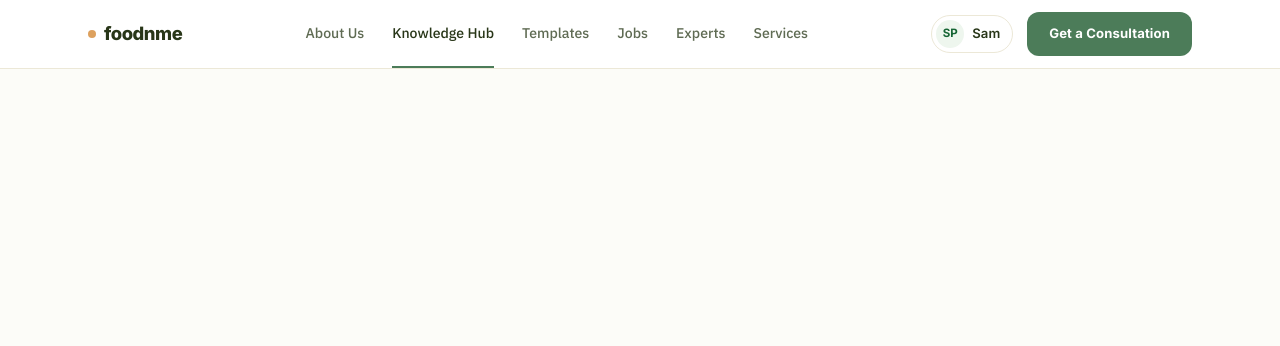
Scenario: Navbar auth region (story-homepage-09) › signed in: Escape closes the dropdown (AC#5)
The image size is (1280, 346).
Click the button with aria-label "Account menu": x=972, y=34 [931,15,1013,53]
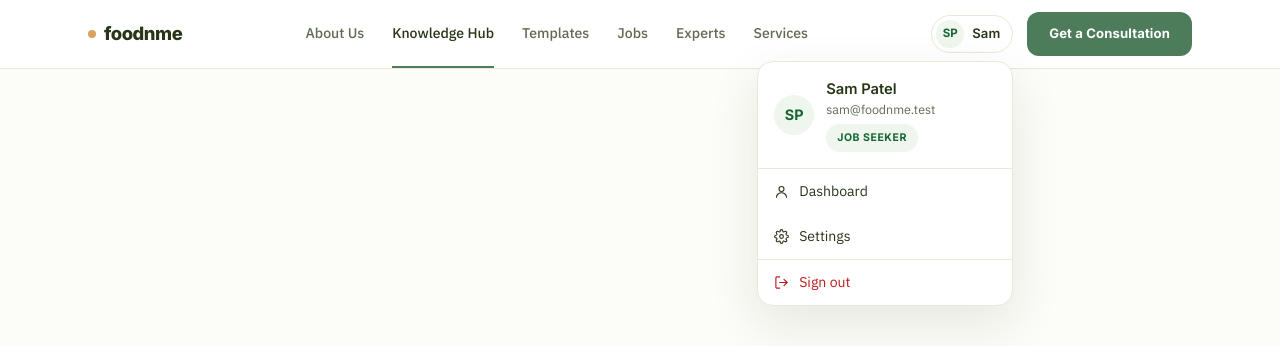
Now the menu is shown, box [757,61,1013,306]
Press Escape
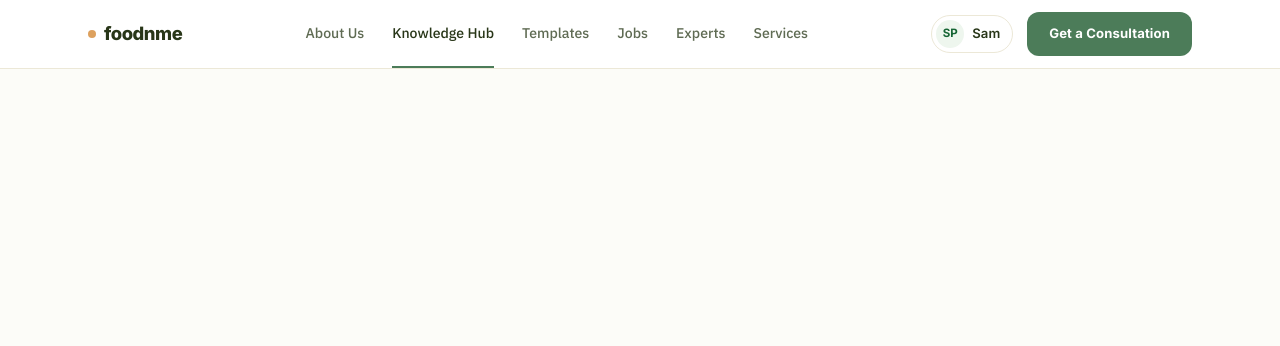
Now the menu is gone
